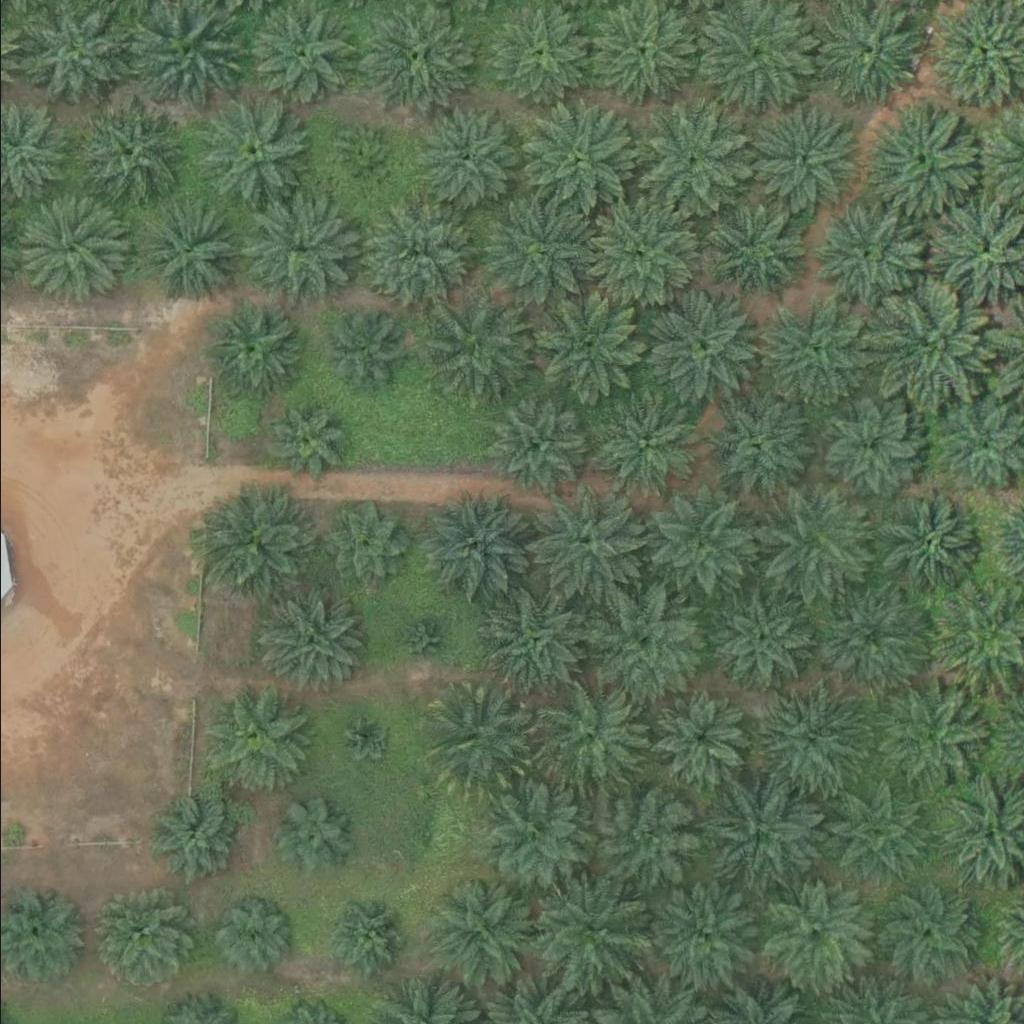Kelapa_Sawit: (870, 681, 984, 794), (644, 876, 758, 989), (534, 873, 648, 986), (815, 774, 929, 887), (705, 776, 819, 889), (750, 684, 864, 797), (361, 198, 475, 311), (520, 104, 634, 217), (868, 107, 981, 220), (872, 289, 985, 402), (425, 878, 538, 991), (585, 780, 698, 893), (641, 488, 754, 601), (528, 488, 641, 601), (413, 491, 526, 604), (592, 386, 705, 499), (581, 202, 694, 315), (486, 196, 599, 309), (746, 103, 859, 216), (630, 107, 743, 220), (195, 96, 308, 209), (73, 93, 186, 206), (238, 192, 351, 305), (134, 196, 247, 309), (11, 196, 124, 309), (200, 491, 313, 604), (199, 683, 313, 795), (424, 682, 537, 794), (813, 580, 926, 692), (873, 877, 986, 989), (758, 875, 871, 987), (478, 785, 591, 897), (534, 680, 647, 792), (588, 580, 701, 692), (481, 584, 594, 696), (759, 483, 872, 595), (755, 295, 868, 407), (644, 292, 757, 404), (532, 297, 645, 409), (425, 296, 538, 408), (810, 202, 923, 314), (357, 2, 470, 114), (250, 584, 363, 696), (815, 397, 916, 497), (873, 497, 974, 597), (649, 689, 750, 789), (708, 591, 809, 691), (711, 397, 812, 497), (484, 398, 585, 498), (705, 207, 806, 307), (248, 7, 349, 107), (417, 112, 517, 212), (486, 5, 586, 105), (92, 891, 192, 991), (206, 307, 295, 395), (152, 800, 240, 888), (317, 503, 405, 590), (267, 794, 355, 881), (317, 893, 405, 980), (208, 890, 296, 977), (319, 316, 395, 391), (269, 402, 344, 477), (329, 133, 392, 195), (396, 618, 447, 668), (340, 712, 391, 762), (404, 809, 454, 859)
